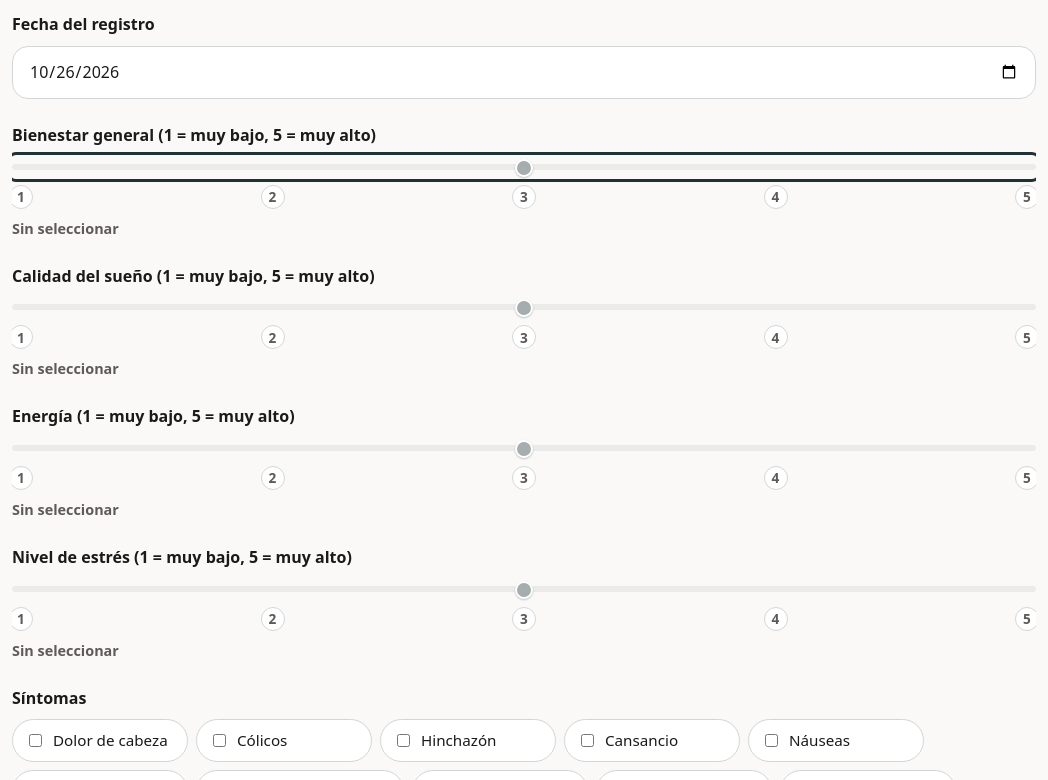
Test: CheckInForm › starts every metric unselected and shows the chosen position
Expected: the text "Sin seleccionar" below "Bienestar general" is shown, [12,219,119,238]
Set the slider named "Bienestar general" to "4": (776, 167) [12,157,1036,177]
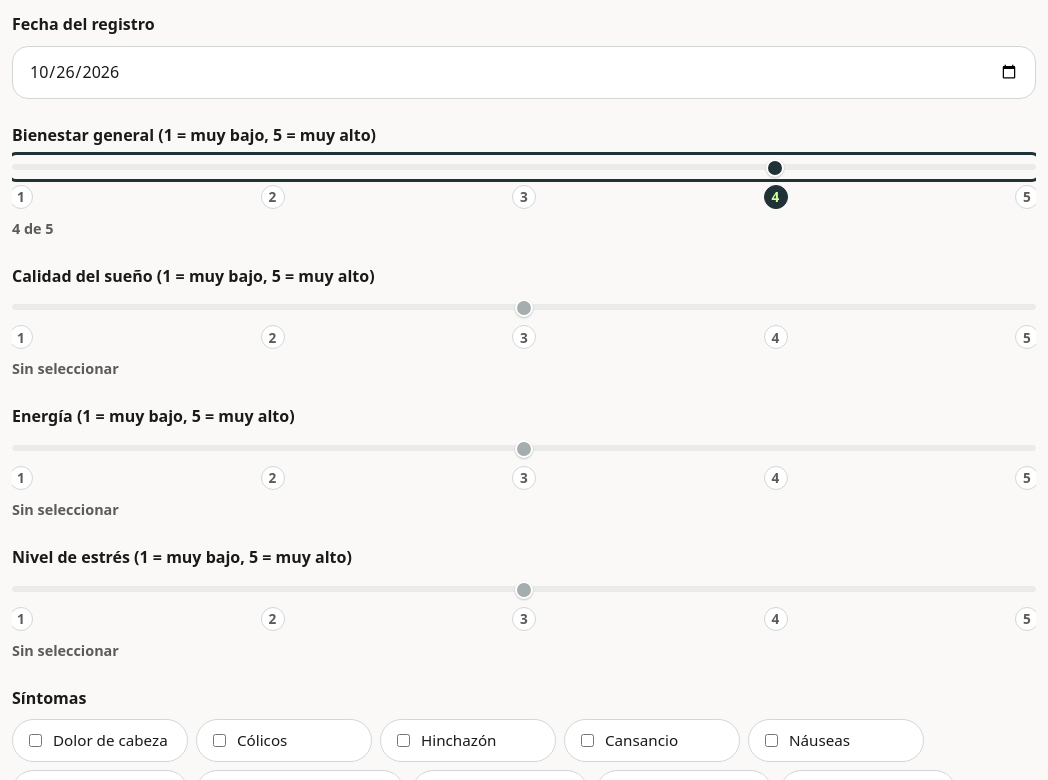
Result: the text "4 de 5" is shown at [12,219,54,238]
Click the slider named "Energía": (524, 448) [12,438,1036,458]
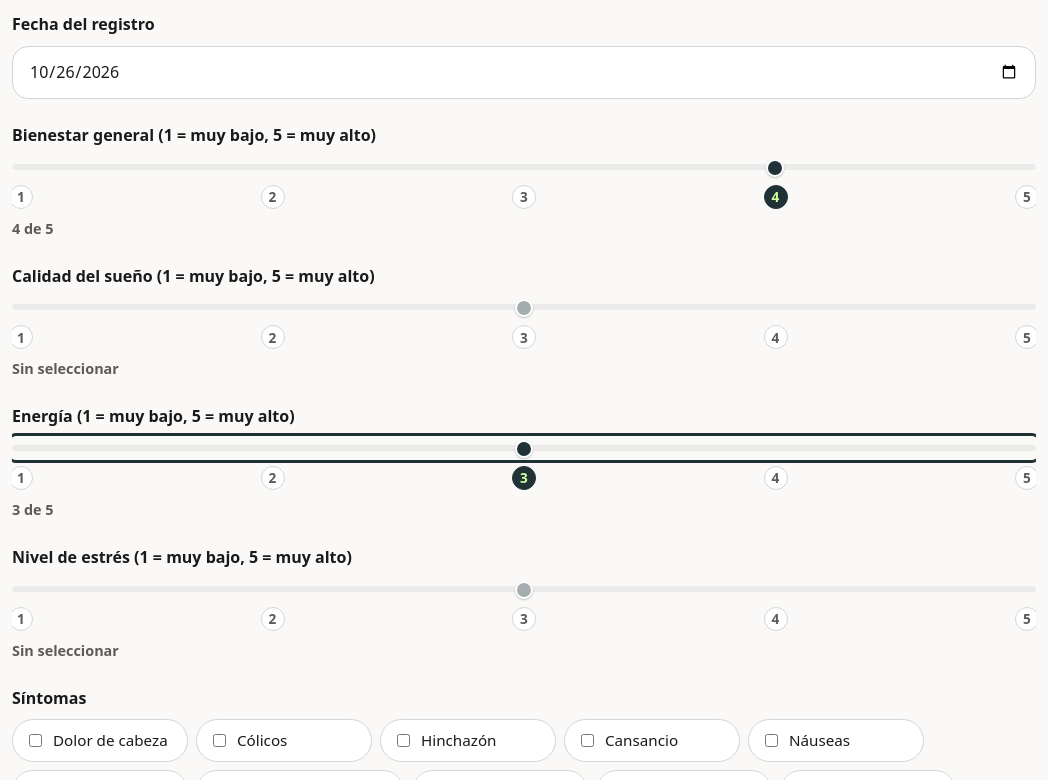
Result: the text "3 de 5" is shown at [12,500,54,519]
